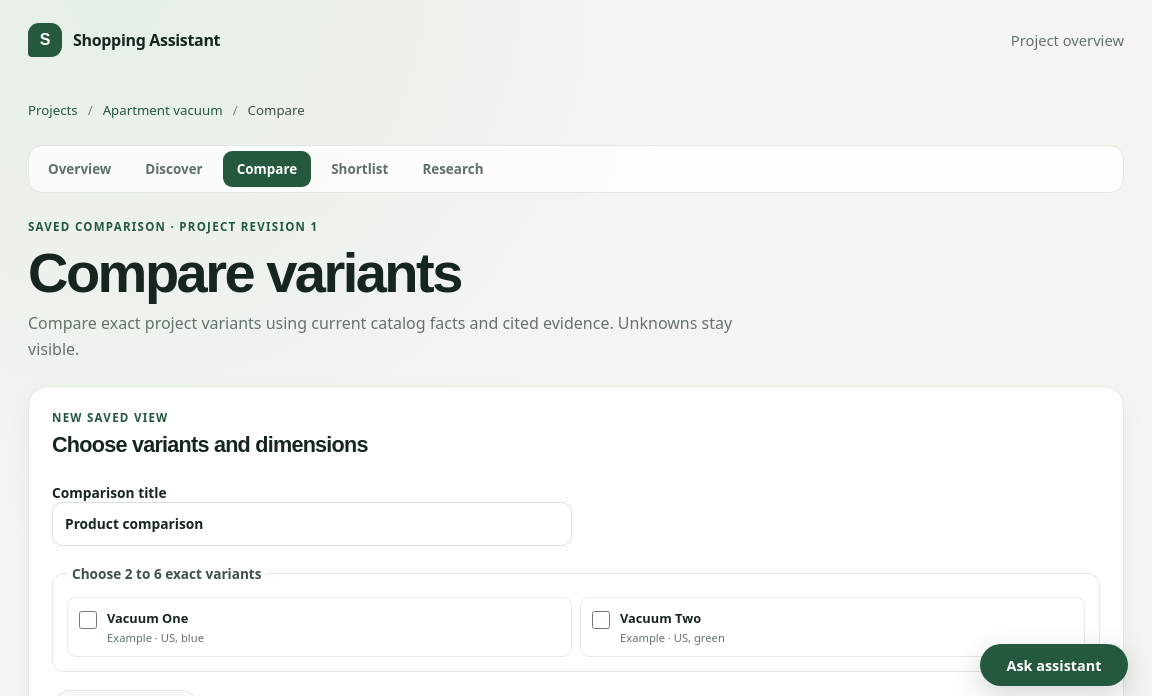
Phase 6 decision workspace › preserves exact-variant selection when a comparison save conflicts
Click the checkbox labelled "Vacuum One Example · US, blue".
click(88, 620)  # box [79,611,97,629]
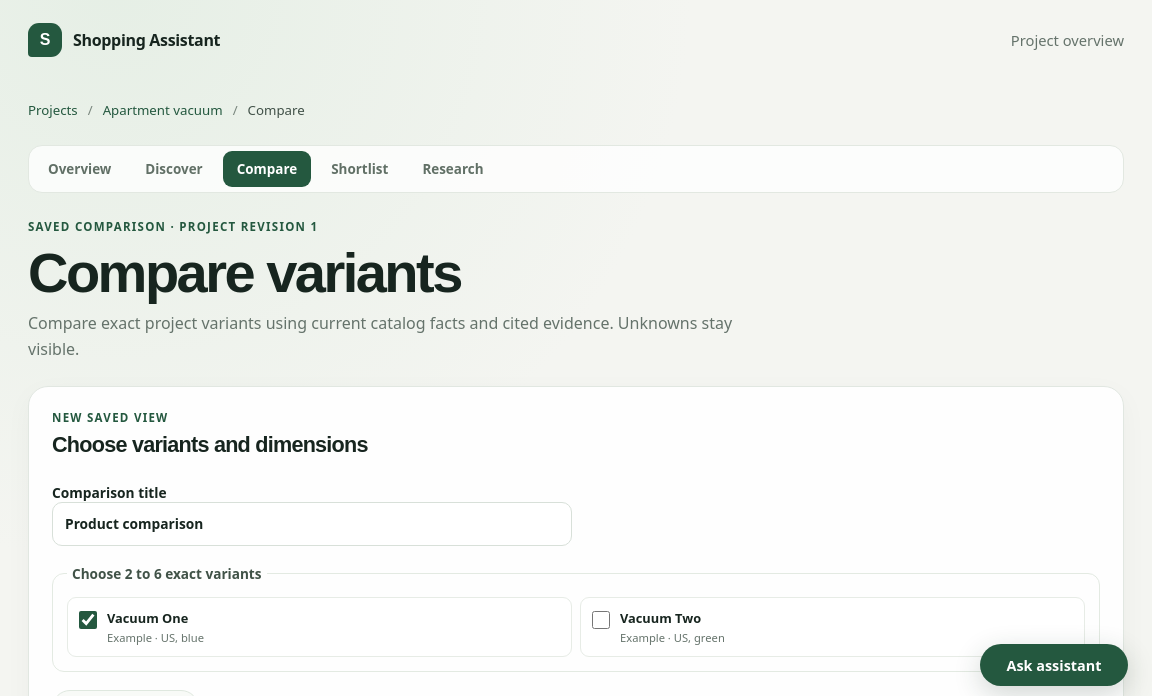
Click the checkbox labelled "Vacuum Two Example · US, green".
click(601, 620)  # box [592,611,610,629]
(page scrolled)
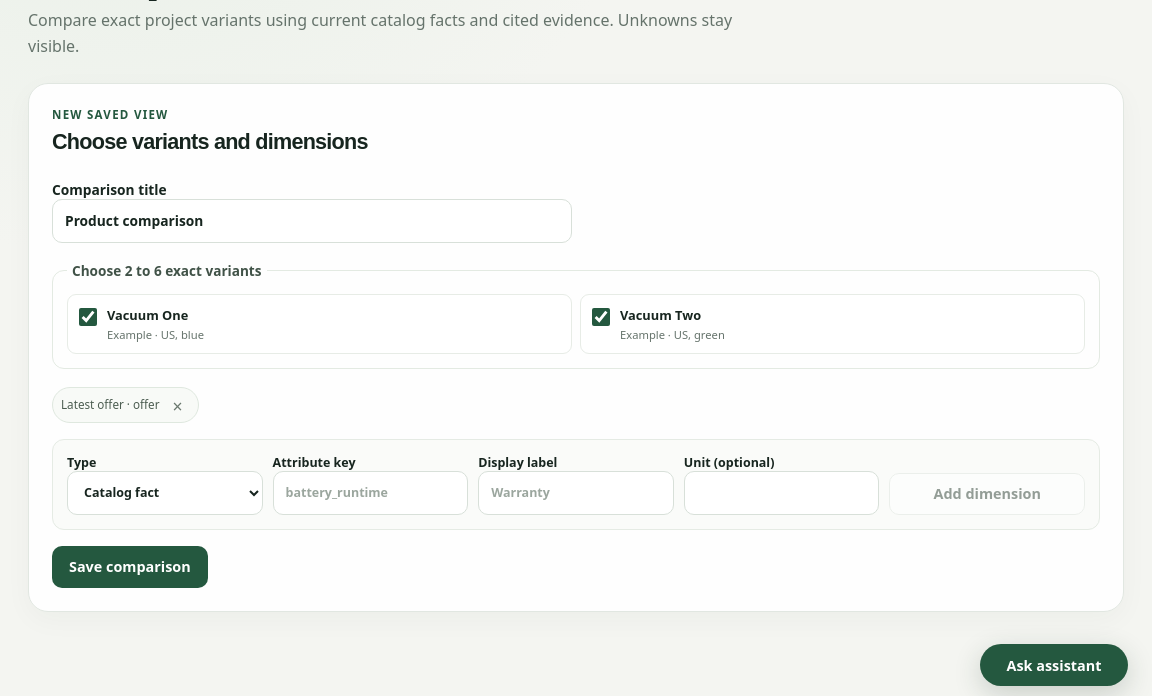
Click the button "Save comparison".
click(130, 567)  # box [52,546,208,588]
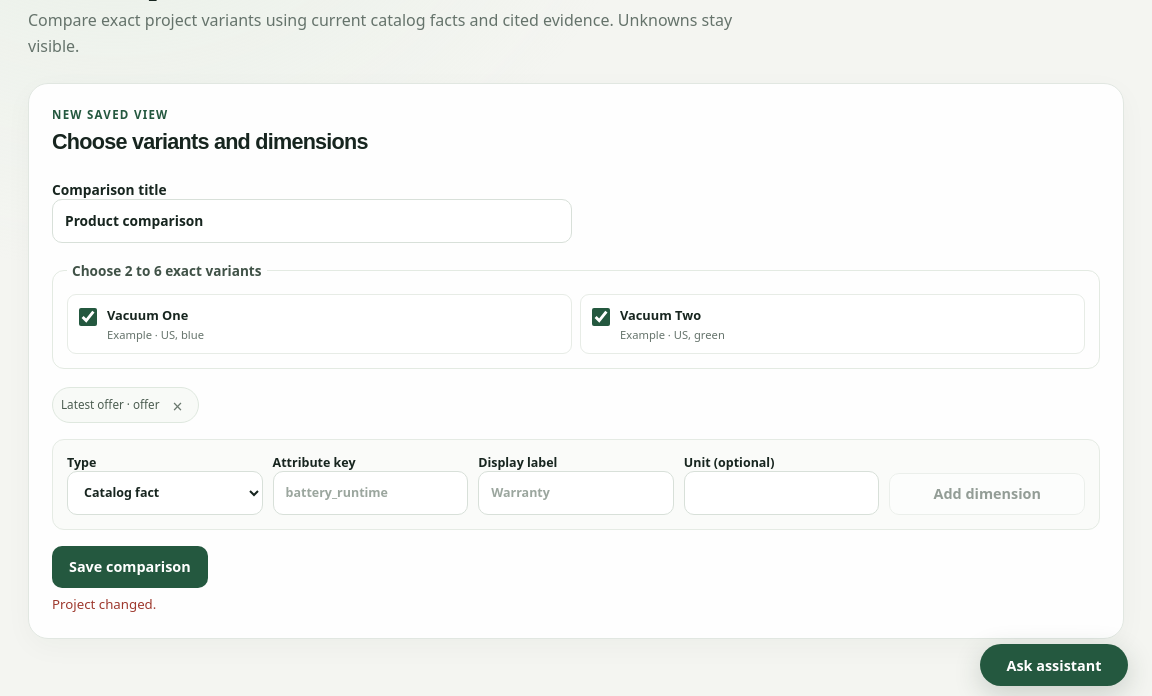
Expected: the checkbox labelled "Vacuum One Example · US, blue" is checked, [79,308,97,326]
Expected: the checkbox labelled "Vacuum Two Example · US, green" is checked, [592,308,610,326]
Expected: the message reads "Project changed.", [52,595,156,613]
